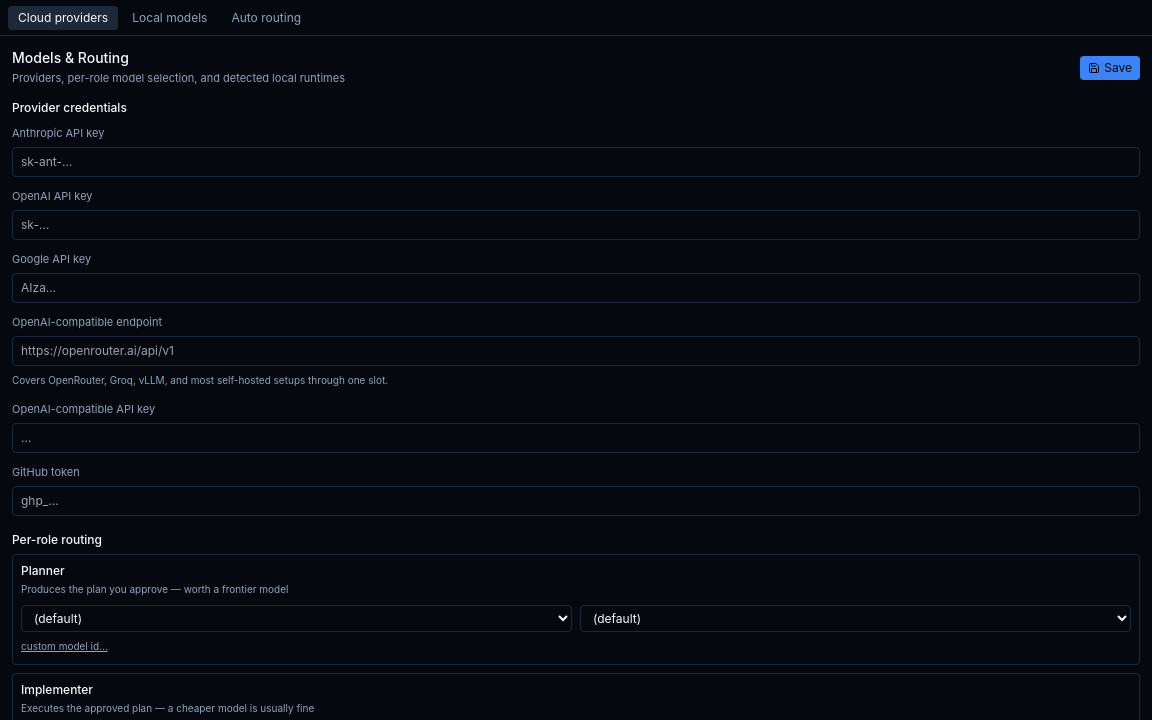
Test: ProvidersPanel › custom model id… reveals the free-text input for a role that has a populated dropdown
What coordinates should you click on to do the following:
click the button "custom model id…"
I would click on:
 (64, 646)
Its box is [21,636,108,656].
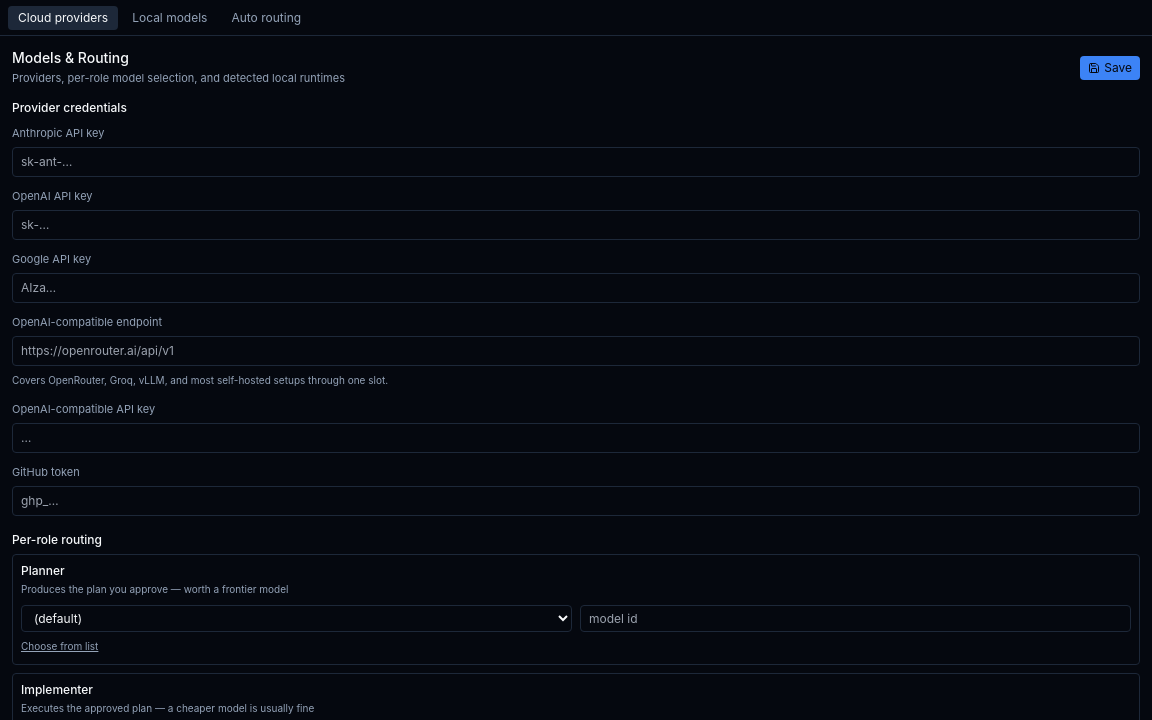
Result: the field with placeholder "model id" is shown at [580,605,1131,632]
